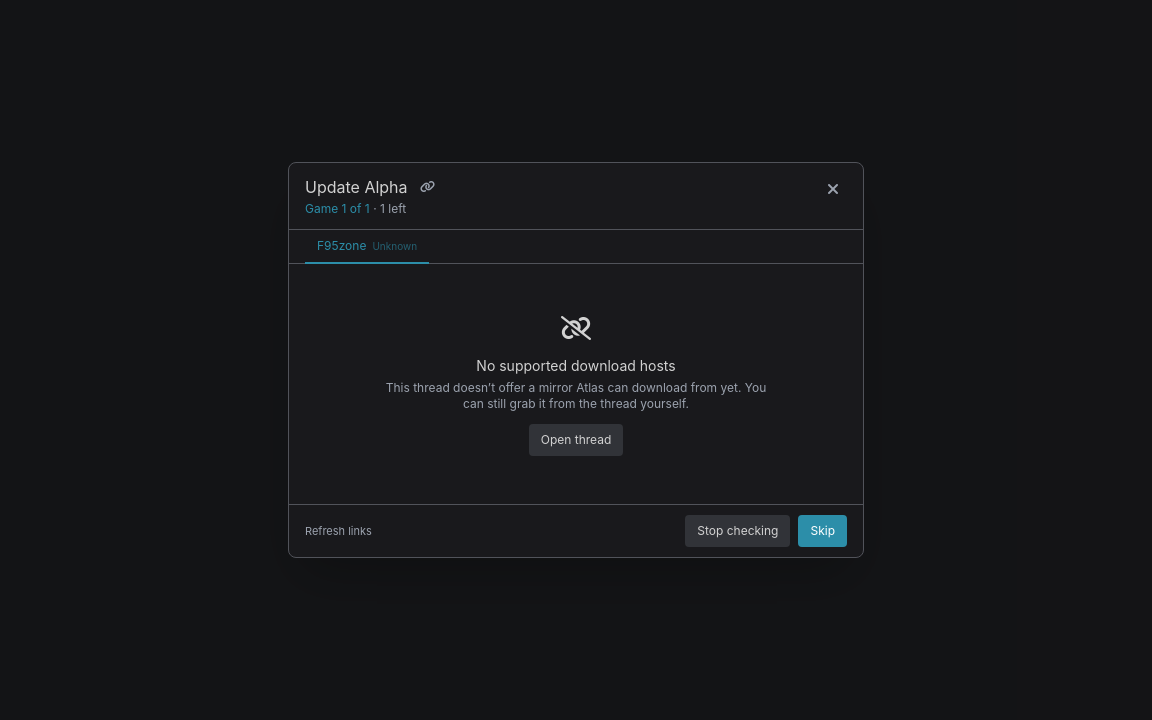
working through every game reports finished rather than stopped
Expected: the heading "Update Alpha" is shown, [305,175,408,199]
Click the button "Skip". click: (823, 531)
box: [798,515,847,547]
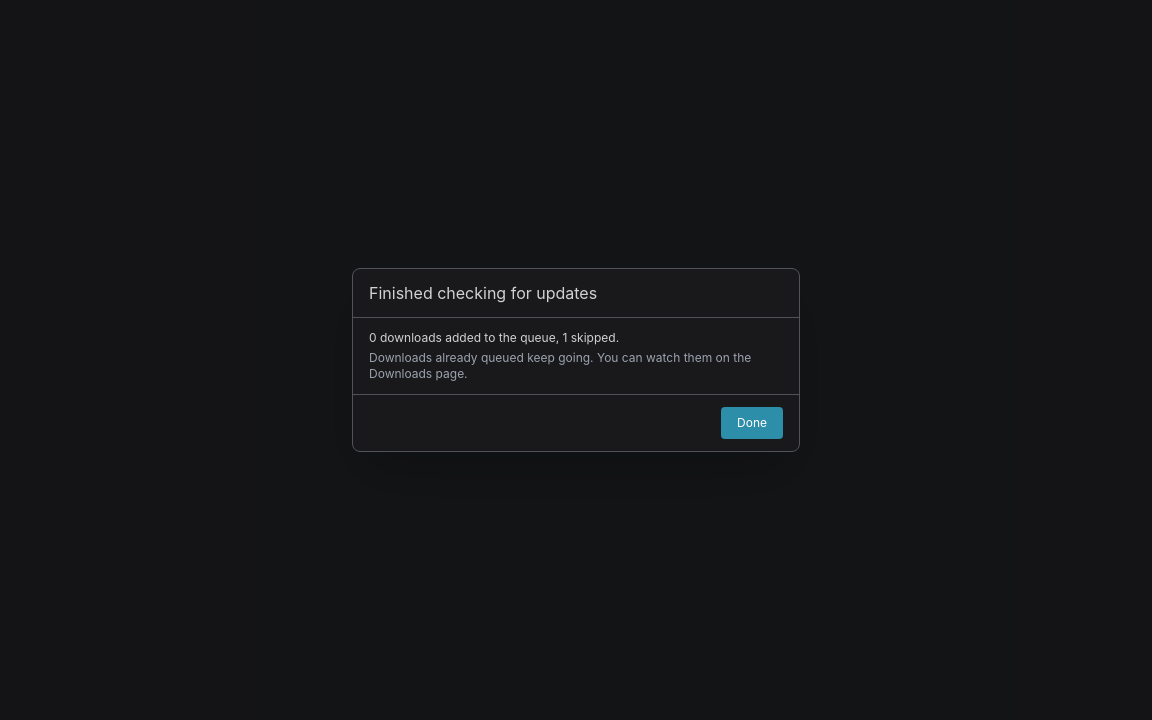
Expected: the heading "Finished checking for updates" is shown, [369,283,597,303]
